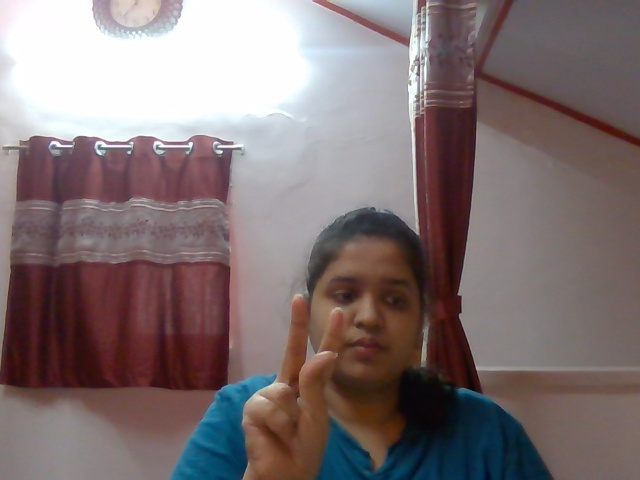k: (232, 282, 351, 470)
